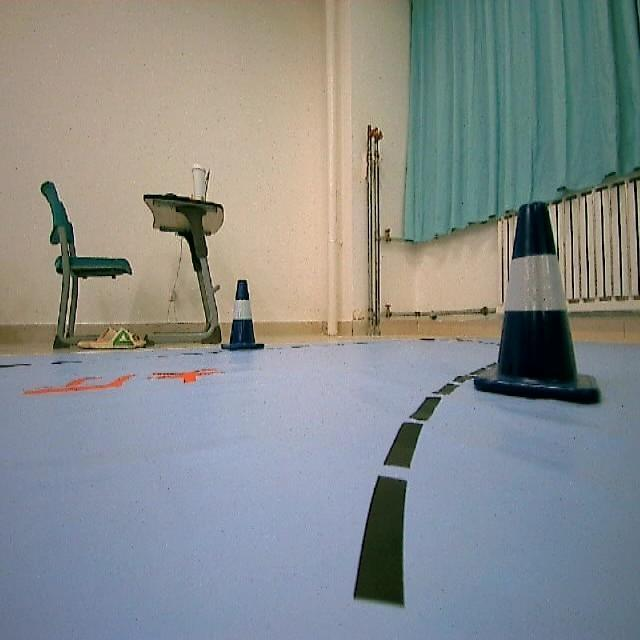obstacle: (476, 187, 602, 407), (222, 277, 266, 358)
